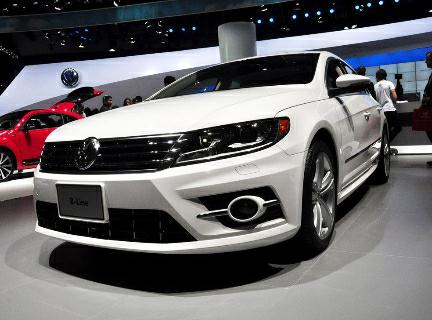大众-CC: (28, 52, 406, 263)
